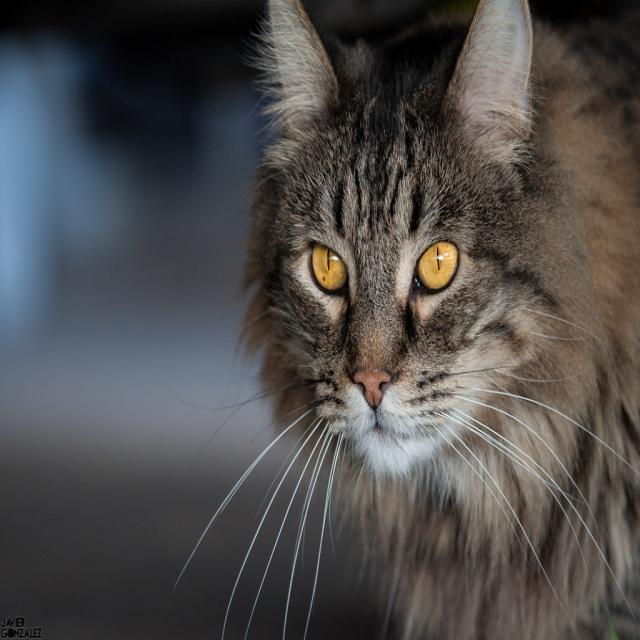Cat: (152, 0, 639, 638)
